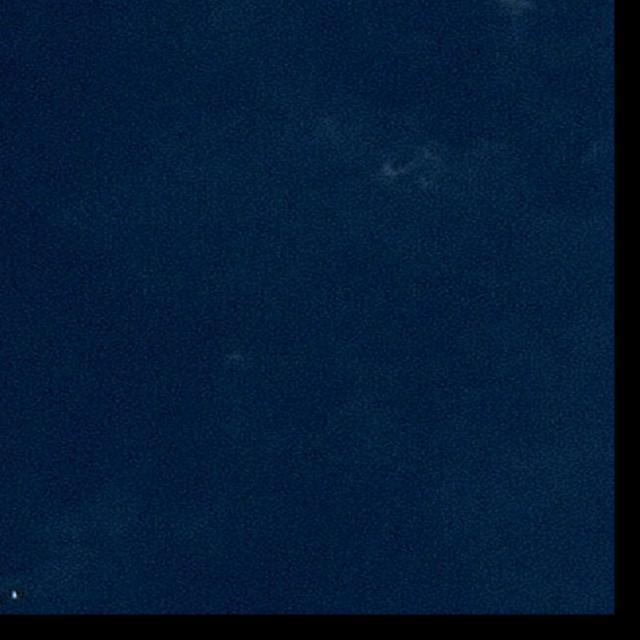ship: (10, 590, 20, 602)
